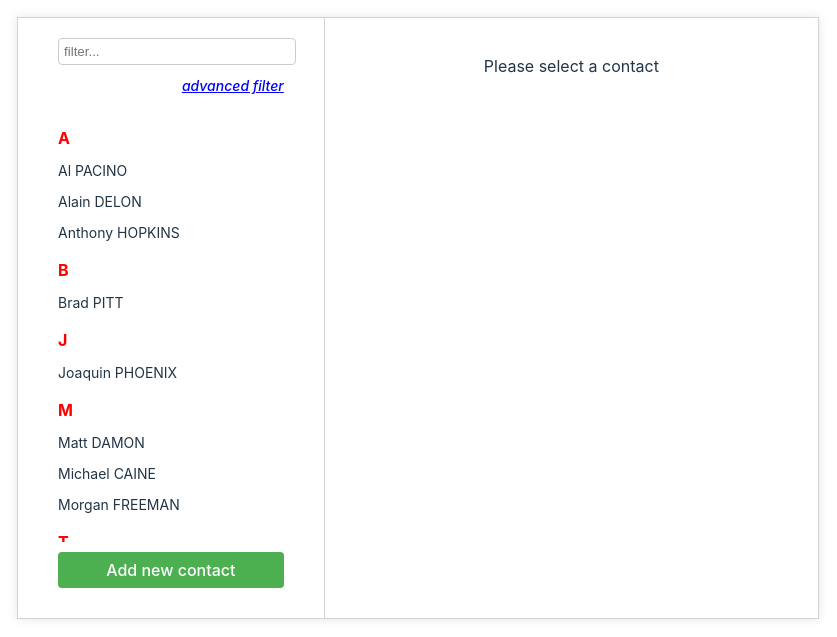
Main Component › should filter contacts by name
The width and height of the screenshot is (837, 637).
In the field with placeholder "filter...": (177, 52) x1=58 y1=38 x2=296 y2=65, type "al"
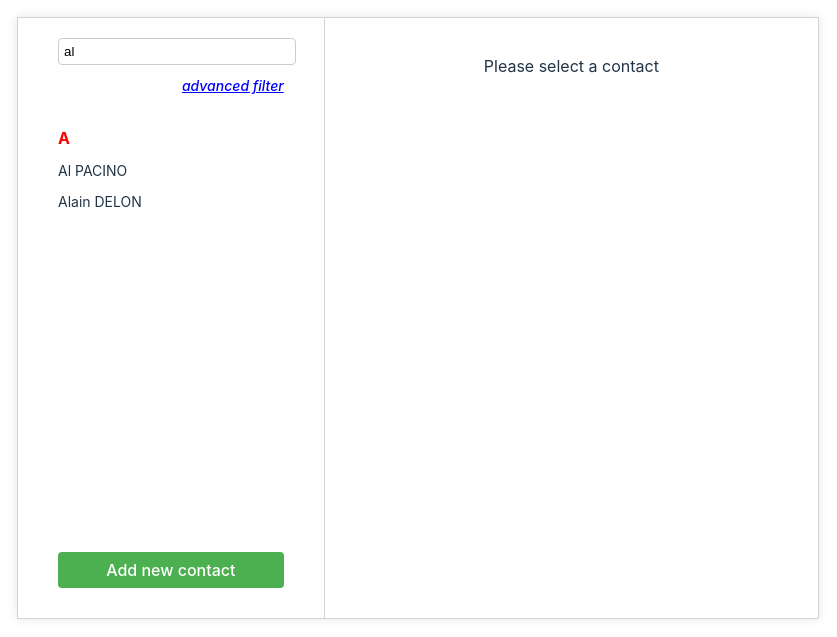
Check: the text "Alain DELON" is shown, box x1=58 y1=193 x2=142 y2=210
Check: the text "Anthony HOPKINS" is gone
